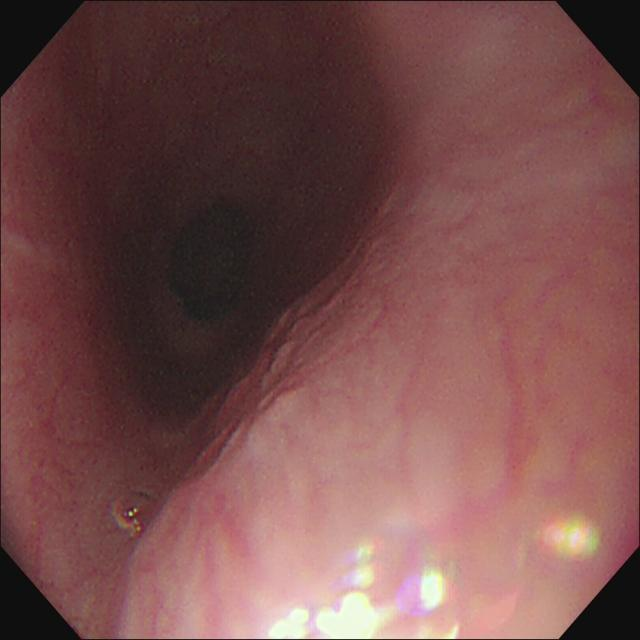E: (140, 174, 284, 328)
T: (109, 488, 160, 539)
U: (266, 540, 469, 640), (542, 512, 602, 562)
